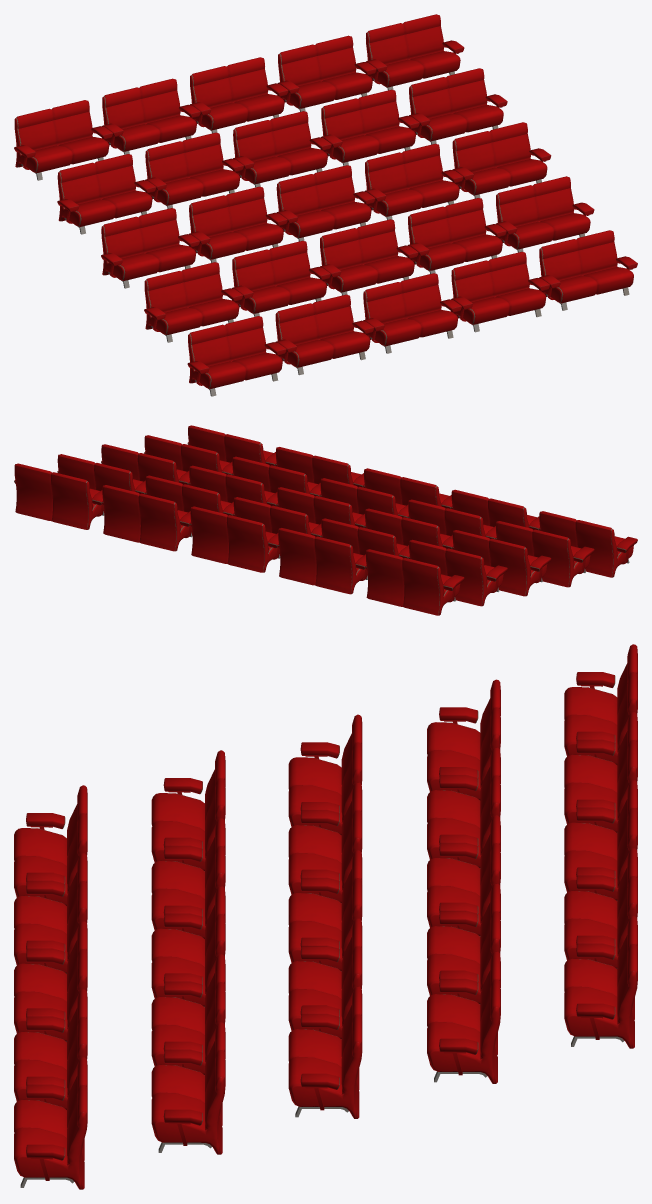
Rendered from CinemaSofa01.FBX.
3 renders of one model, top to bottom at view 1: azimuth 30°, elevation 25°; view 2: azimuth 150°, elevation 25°; view 3: azimuth 270°, elevation 25°, orthographic. The views are drawn at different scales.
Parts seen in each view (by area): view 1: CinemaSofa01; view 2: CinemaSofa01; view 3: CinemaSofa01.
Part boxes in pixels (<box>): CinemaSofa01: <box>14,14,637,396</box>; CinemaSofa01: <box>14,425,637,615</box>; CinemaSofa01: <box>14,644,637,1189</box>.
Size of the model in its own units: 1312 by 396 by 1019.
